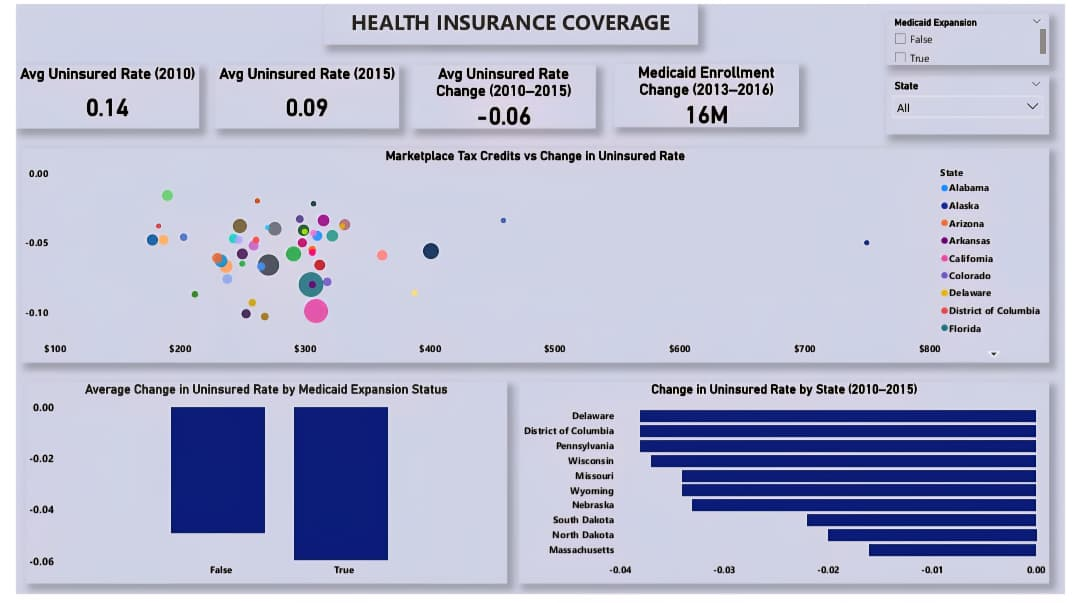

The page's visual inventory and layout, read from the dashboard file:
{"tool":"powerbi","page":{"name":"Page 1","canvas":[1600,900],"ordinal":0},"visuals":[{"type":"textbox","box":[470.1,0,570.7,62.2],"z":0},{"type":"card","title":"Avg Uninsured Rate (2010)","fields":{"Values":["Health Insurance.Avg Uninsured Rate 2010"]},"box":[0,93.3,279.9,97],"z":1000},{"type":"card","title":"Avg Uninsured Rate (2015)","fields":{"Values":["Health Insurance.Avg Uninsured Rate 2015"]},"box":[303.7,93.3,281.7,97],"z":2000},{"type":"card","title":"Avg Uninsured Rate Change (2010–2015)","fields":{"Values":["Health Insurance.Avg Uninsured Rate Change"]},"box":[603.7,93.3,281.7,97],"z":3000},{"type":"card","title":"Medicaid Enrollment Change (2013–2016)","fields":{"Values":["Health Insurance.Total Medicaid Enrollment Change"]},"box":[912.8,91.5,281.7,97],"z":4000},{"type":"slicer","fields":{"Values":["Health Insurance.State Medicaid Expansion (2016)"]},"box":[1328,14.6,248.8,78.7],"z":5000},{"type":"clusteredBarChart","title":"Change in Uninsured Rate by State (2010–2015)","fields":{"Category":["Health Insurance.State"],"Y":["Health Insurance.Avg Uninsured Rate Change"]},"box":[768.3,576.2,808.5,307.3],"z":6000},{"type":"clusteredColumnChart","title":"Average Change in Uninsured Rate by Medicaid Expansion Status","fields":{"Category":["Health Insurance.State Medicaid Expansion (2016)"],"Y":["Health Insurance.Avg Uninsured Rate Change"]},"box":[14.6,576.2,735.4,307.3],"z":7000},{"type":"slicer","fields":{"Values":["Health Insurance.State"]},"box":[1328,109.8,248.8,89.6],"z":8000},{"type":"scatterChart","title":"Marketplace Tax Credits vs Change in Uninsured Rate","fields":{"X":["Health Insurance.Avg Monthly Tax Credit"],"Y":["Health Insurance.Avg Uninsured Rate Change"],"Size":["Health Insurance.Marketplace Coverage 2016"],"Series":["Health Insurance.State"]},"box":[9.1,219.5,1567.7,327.4],"z":9000}]}

Visuals, with their boxes in screenshot pixels (x1, y1, x2, y2), scaled from the page's 1600x900 canvas onto the 1080x603 screenshot:
textbox: 317:0:703:42
"Avg Uninsured Rate (2010)" card: 0:63:189:128
"Avg Uninsured Rate (2015)" card: 205:63:395:128
"Avg Uninsured Rate Change (2010–2015)" card: 407:63:598:128
"Medicaid Enrollment Change (2013–2016)" card: 616:61:806:126
slicer - Health Insurance.State Medicaid Expansion (2016): 896:10:1064:63
"Change in Uninsured Rate by State (2010–2015)" clusteredBarChart: 519:386:1064:592
"Average Change in Uninsured Rate by Medicaid Expansion Status" clusteredColumnChart: 10:386:506:592
slicer - Health Insurance.State: 896:74:1064:134
"Marketplace Tax Credits vs Change in Uninsured Rate" scatterChart: 6:147:1064:366
